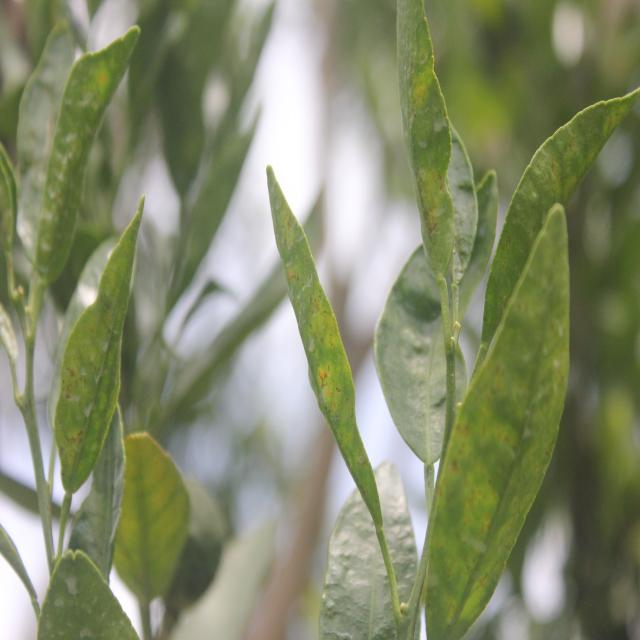canker: (435, 356, 567, 568), (279, 210, 361, 461), (397, 15, 460, 297), (60, 310, 123, 478)
